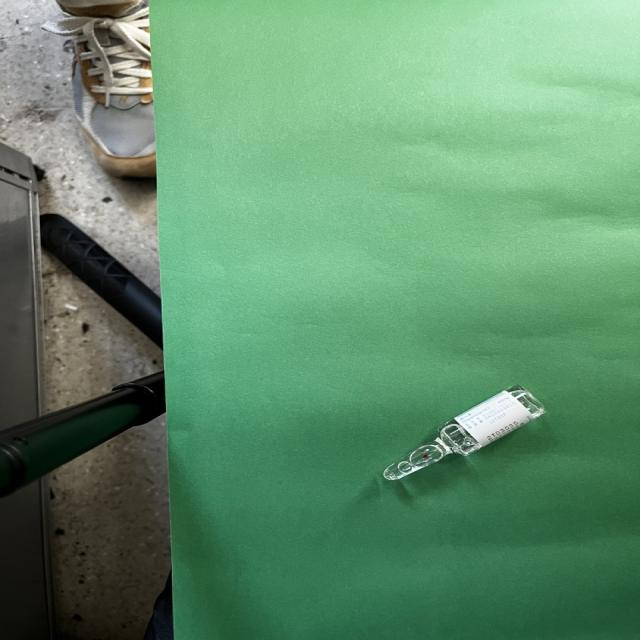Ampoules: (383, 386, 543, 480)
